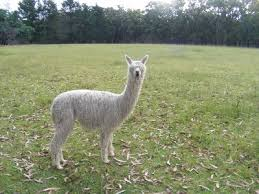alpaca: (49, 54, 149, 169)
